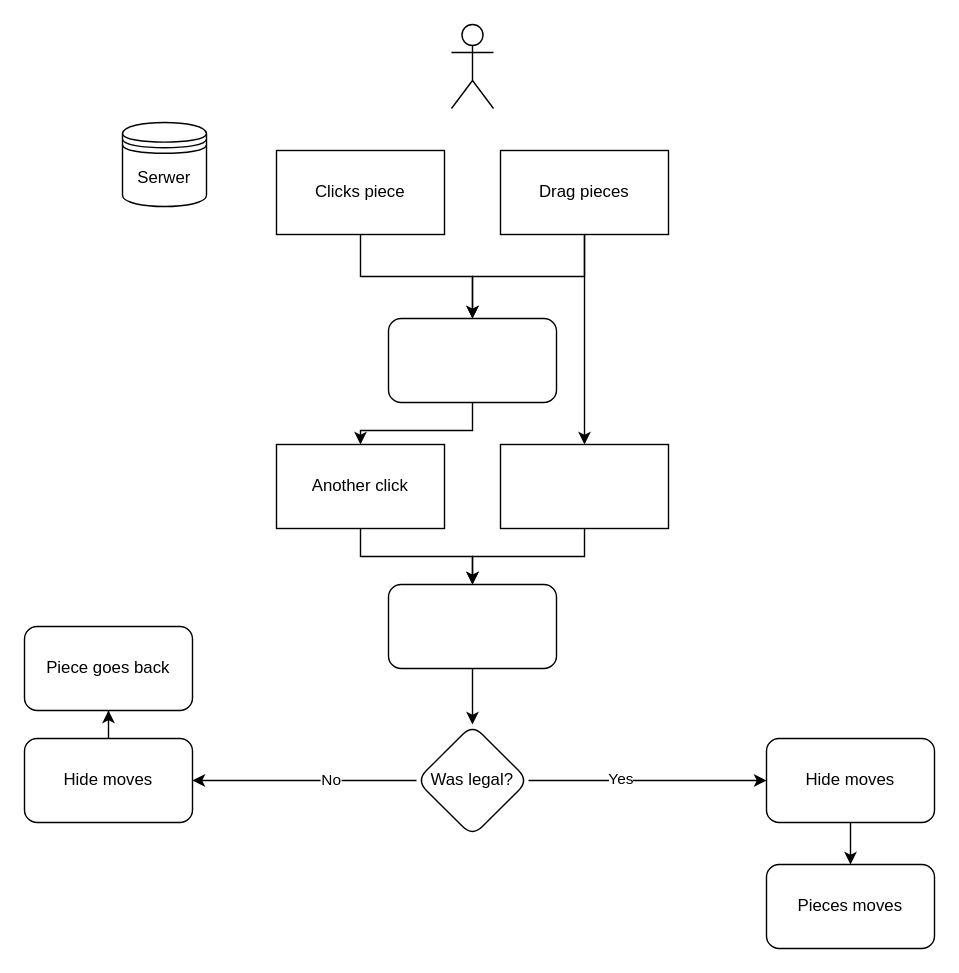
This 959x973 diagram has some shape labels left out. Each missing label, with the centre of its shape:
Create MoveData From -> To: the point at 471,625
End Drag: the point at 583,485
Player: the point at 471,65
Show moves: the point at 471,359
